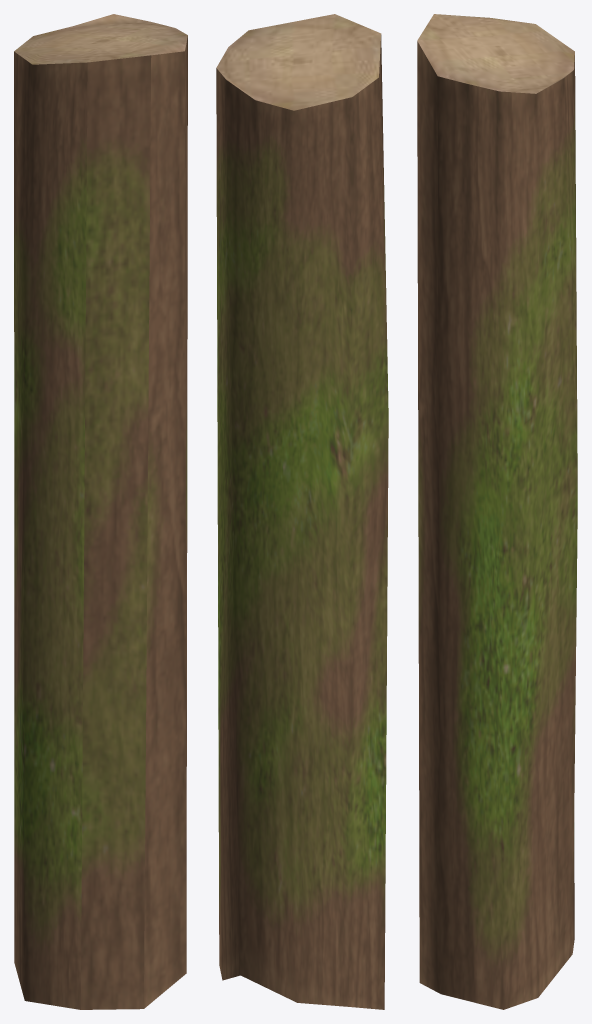
Rendered from log_small_001_lod_model_c.glb.
The picture shows the model from 3 angles, left to right: view 1: azimuth 30°, elevation 25°; view 2: azimuth 150°, elevation 25°; view 3: azimuth 270°, elevation 25°; orthographic projection.
Parts seen in each view (by area): view 1: trees_log_mossy.png__, tree_stumps.jpg__; view 2: trees_log_mossy.png__, tree_stumps.jpg__; view 3: trees_log_mossy.png__, tree_stumps.jpg__.
Boxes of the visible parts, box(x1,y1,x2,y2) form: trees_log_mossy.png__: box(14, 36, 187, 1009); tree_stumps.jpg__: box(14, 14, 187, 64); trees_log_mossy.png__: box(216, 35, 388, 1009); tree_stumps.jpg__: box(216, 14, 381, 110); trees_log_mossy.png__: box(417, 41, 577, 1009); tree_stumps.jpg__: box(417, 14, 574, 93).
Bounding box in the file's own units: 0.5305 × 2.97 × 0.4566.
Materials: 2 (2 with a texture image).
